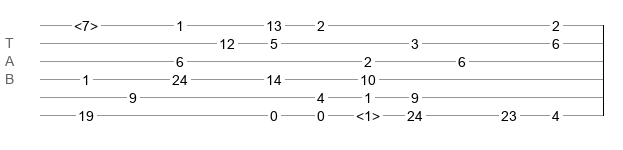0: (270, 108, 278, 118), (317, 108, 325, 118)
1: (82, 72, 90, 82), (176, 18, 184, 28), (364, 90, 372, 100)
10: (360, 72, 376, 82)
12: (219, 36, 235, 46)
13: (266, 18, 282, 28)
14: (266, 72, 282, 82)
19: (78, 108, 94, 118)
2: (317, 18, 325, 28), (364, 54, 372, 64), (552, 18, 560, 28)
23: (501, 108, 517, 118)
24: (172, 72, 188, 82), (407, 108, 423, 118)
3: (411, 36, 419, 46)
4: (317, 90, 325, 100), (552, 108, 560, 118)
5: (270, 36, 278, 46)
6: (176, 54, 184, 64), (458, 54, 466, 64), (552, 36, 560, 46)
9: (129, 90, 137, 100), (411, 90, 419, 100)
harmonic: (74, 18, 98, 28), (356, 108, 380, 118)
